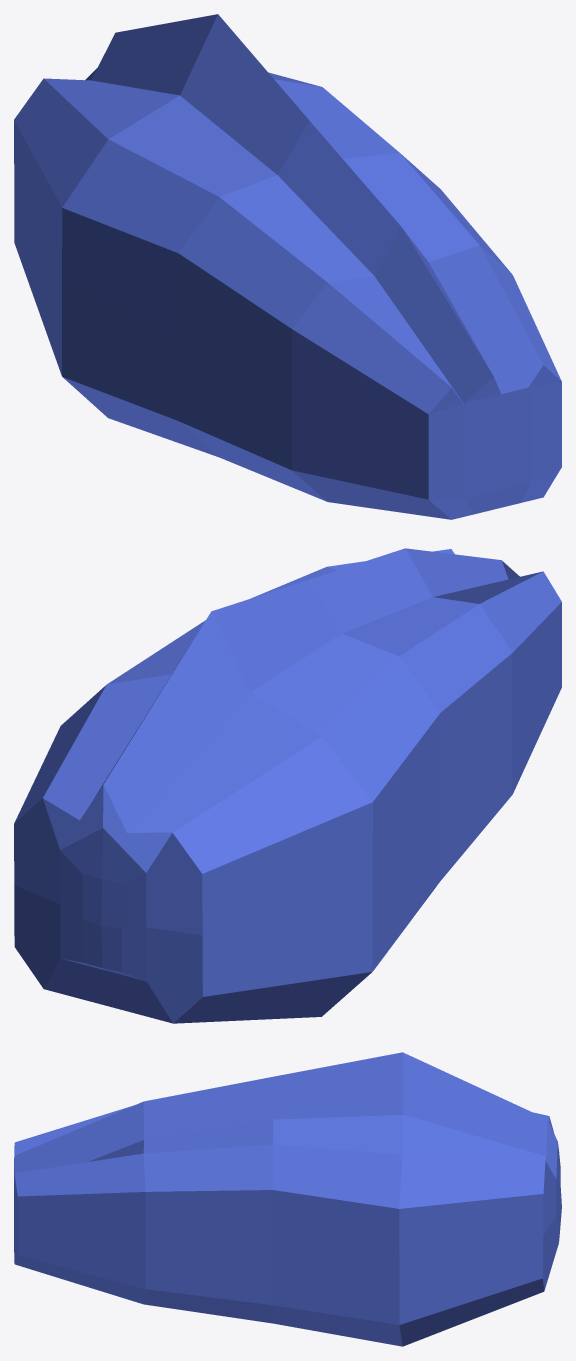
Rendered from koifishBody.glb.
3 views of the same model, one above another, from view 1: azimuth 30°, elevation 25°; view 2: azimuth 150°, elevation 25°; view 3: azimuth 270°, elevation 25° (orthographic). The views are drawn at different scales.
Visible parts, largest first — view 1: Body; view 2: Body; view 3: Body.
Part boxes in pixels (x1,y1,x2,y2): Body: (14,14,561,519); Body: (14,548,561,1023); Body: (14,1052,561,1346).
Size of the model in its own units: 5.68 by 6.58 by 12.6.
